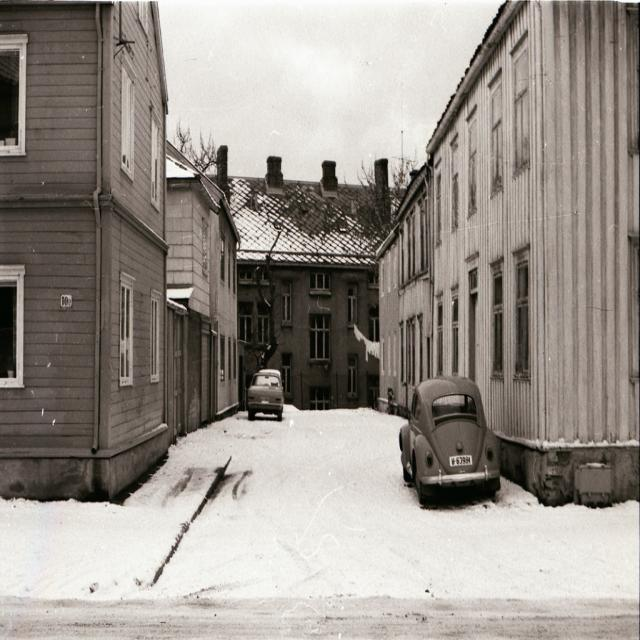car: (399, 374, 500, 505), (246, 370, 283, 421)
